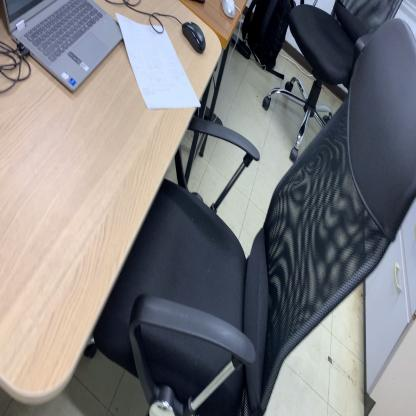chair: (84, 17, 416, 415), (260, 0, 404, 164)
